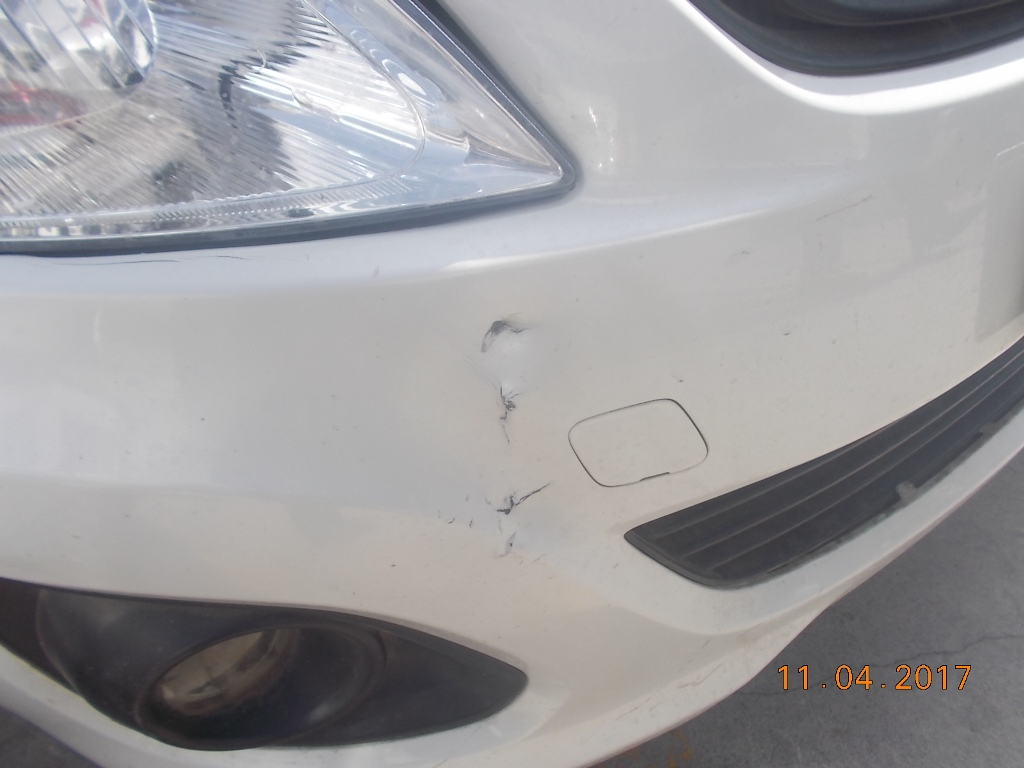Scratch_or_spot: (451, 306, 536, 363), (489, 468, 538, 538), (492, 372, 513, 437)
